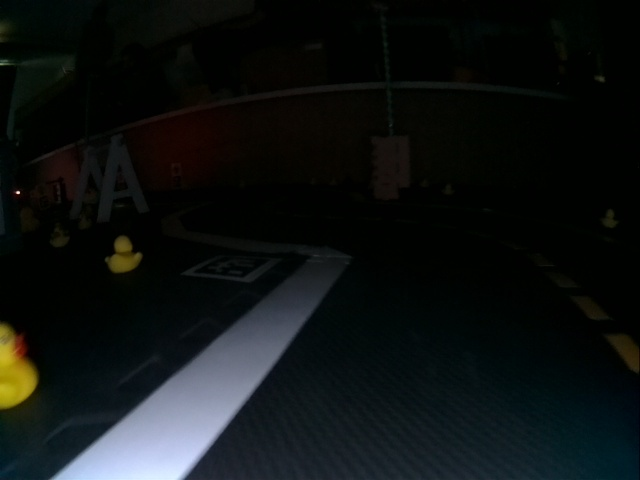Duckie: (0, 323, 37, 411), (106, 235, 141, 274), (49, 227, 70, 247), (601, 210, 619, 228)
QR code: (186, 253, 277, 283)
